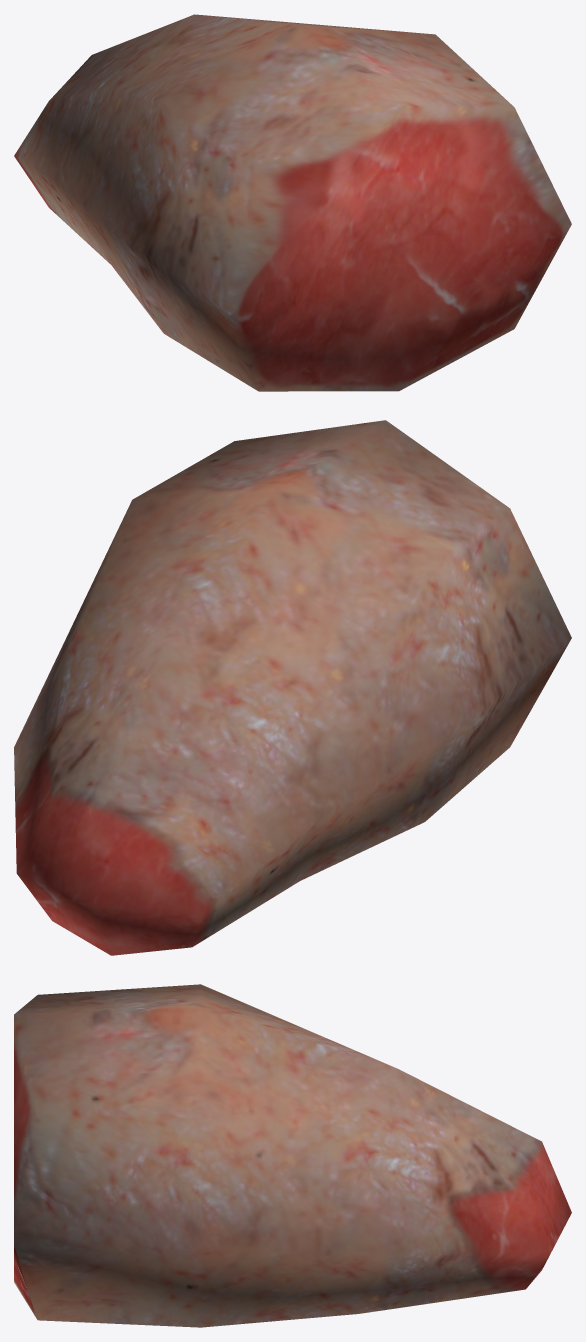
File: Ham_whole.fbx
3 renders of one model, top to bottom at view 1: azimuth 30°, elevation 25°; view 2: azimuth 150°, elevation 25°; view 3: azimuth 270°, elevation 25°, orthographic. The views are drawn at different scales.
Visible parts, largest first — view 1: Ham_whole; view 2: Ham_whole; view 3: Ham_whole.
Boxes of the visible parts, left/top/right/bottom form: Ham_whole: left=14, top=14, right=571, bottom=391; Ham_whole: left=14, top=420, right=571, bottom=955; Ham_whole: left=14, top=984, right=571, bottom=1327.
Size of the model in its own units: 0.4567 by 0.3575 by 0.6485.
